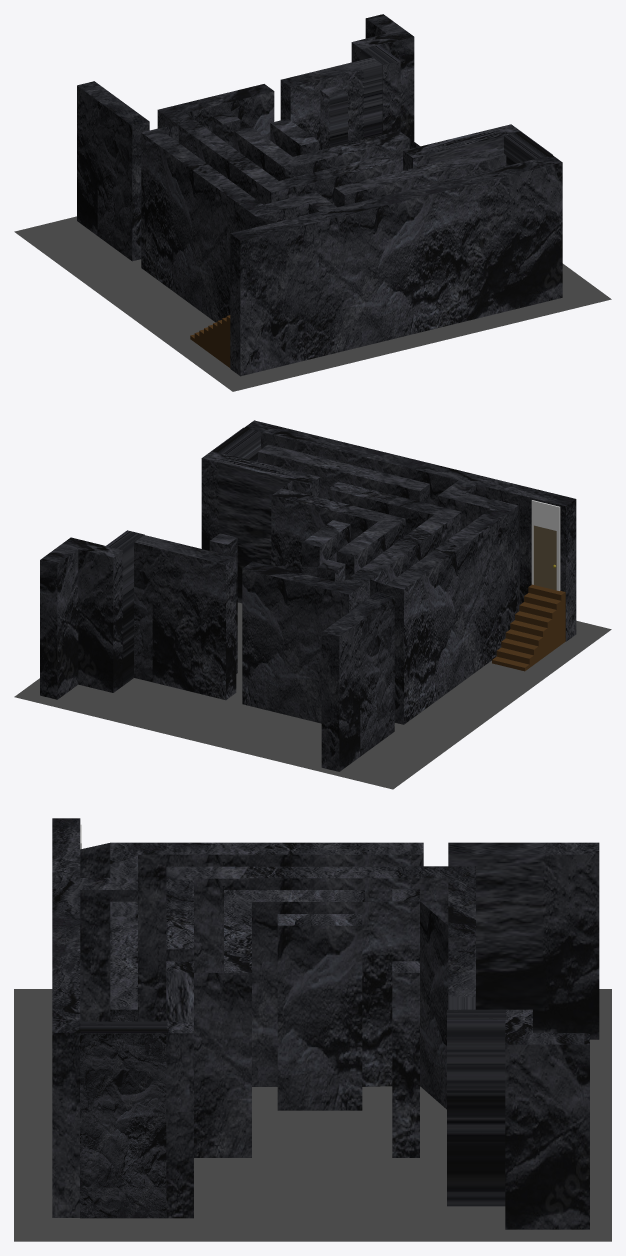
The model's file is MAZE.fbx.
3 views of the same model, one above another, from view 1: azimuth 30°, elevation 25°; view 2: azimuth 150°, elevation 25°; view 3: azimuth 270°, elevation 25° (orthographic). The views are drawn at different scales.
Visible parts, largest first — view 1: Plane, Plane.005, Cube.005; view 2: Plane, Plane.005, Cube.005, Cube.006; view 3: Plane, Plane.005.
Boxes of the visible parts, x1,y1,x2,y2 form: Plane: (77, 14, 562, 376); Plane.005: (14, 216, 611, 391); Cube.005: (190, 315, 230, 367); Plane: (40, 420, 576, 771); Plane.005: (14, 602, 611, 789); Cube.005: (492, 584, 565, 671); Cube.006: (531, 500, 560, 590); Plane: (52, 818, 599, 1229); Plane.005: (14, 989, 611, 1241).
Bounding box in the file's own units: 9629 × 3401 × 9629.
